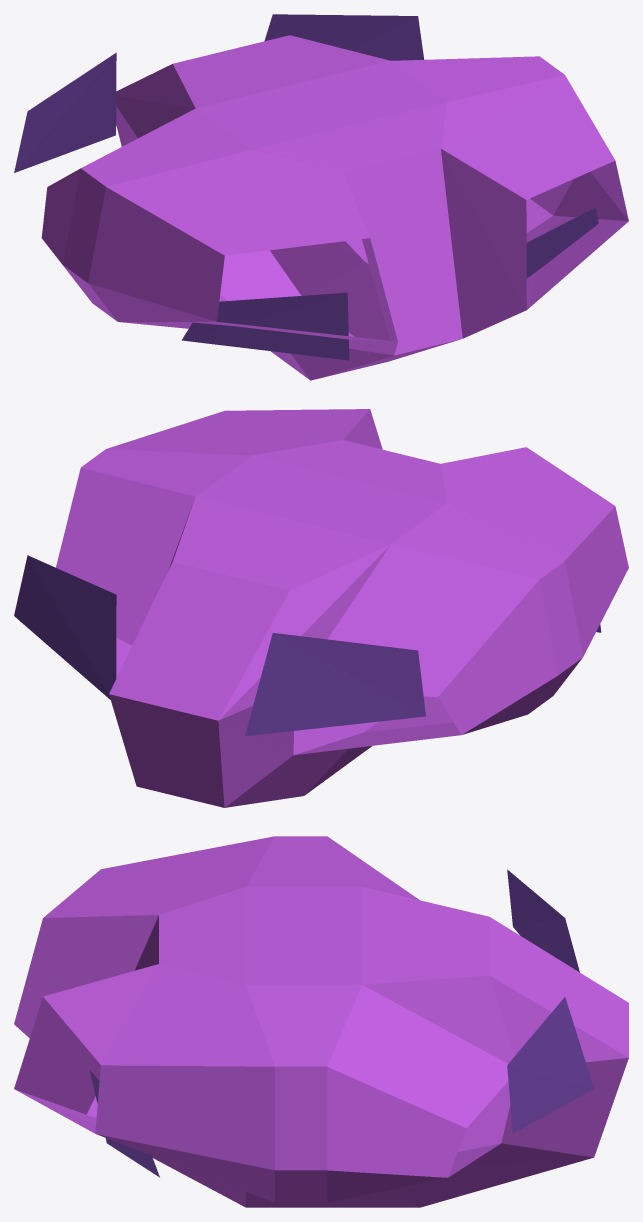
File: robotBreast.FBX
3 renders of one model, top to bottom at view 1: azimuth 30°, elevation 25°; view 2: azimuth 150°, elevation 25°; view 3: azimuth 270°, elevation 25°, orthographic. The views are drawn at different scales.
Visible parts, largest first — view 1: VIFS001, VIFS002; view 2: VIFS001, VIFS002; view 3: VIFS001, VIFS002.
Part boxes in pixels (x1,y1,x2,y2): VIFS001: (41,35,628,380); VIFS002: (14,14,598,360); VIFS001: (56,409,628,807); VIFS002: (14,555,601,736); VIFS001: (14,836,628,1207); VIFS002: (89,869,593,1177).
Size of the model in its own units: 1.01 by 0.48 by 1.06.
